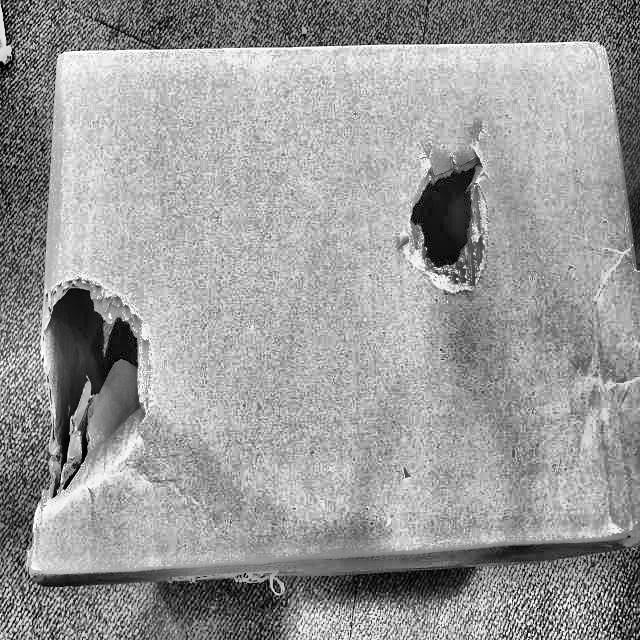box: (21, 35, 639, 595)
hole: (37, 279, 153, 507), (387, 142, 500, 306)
